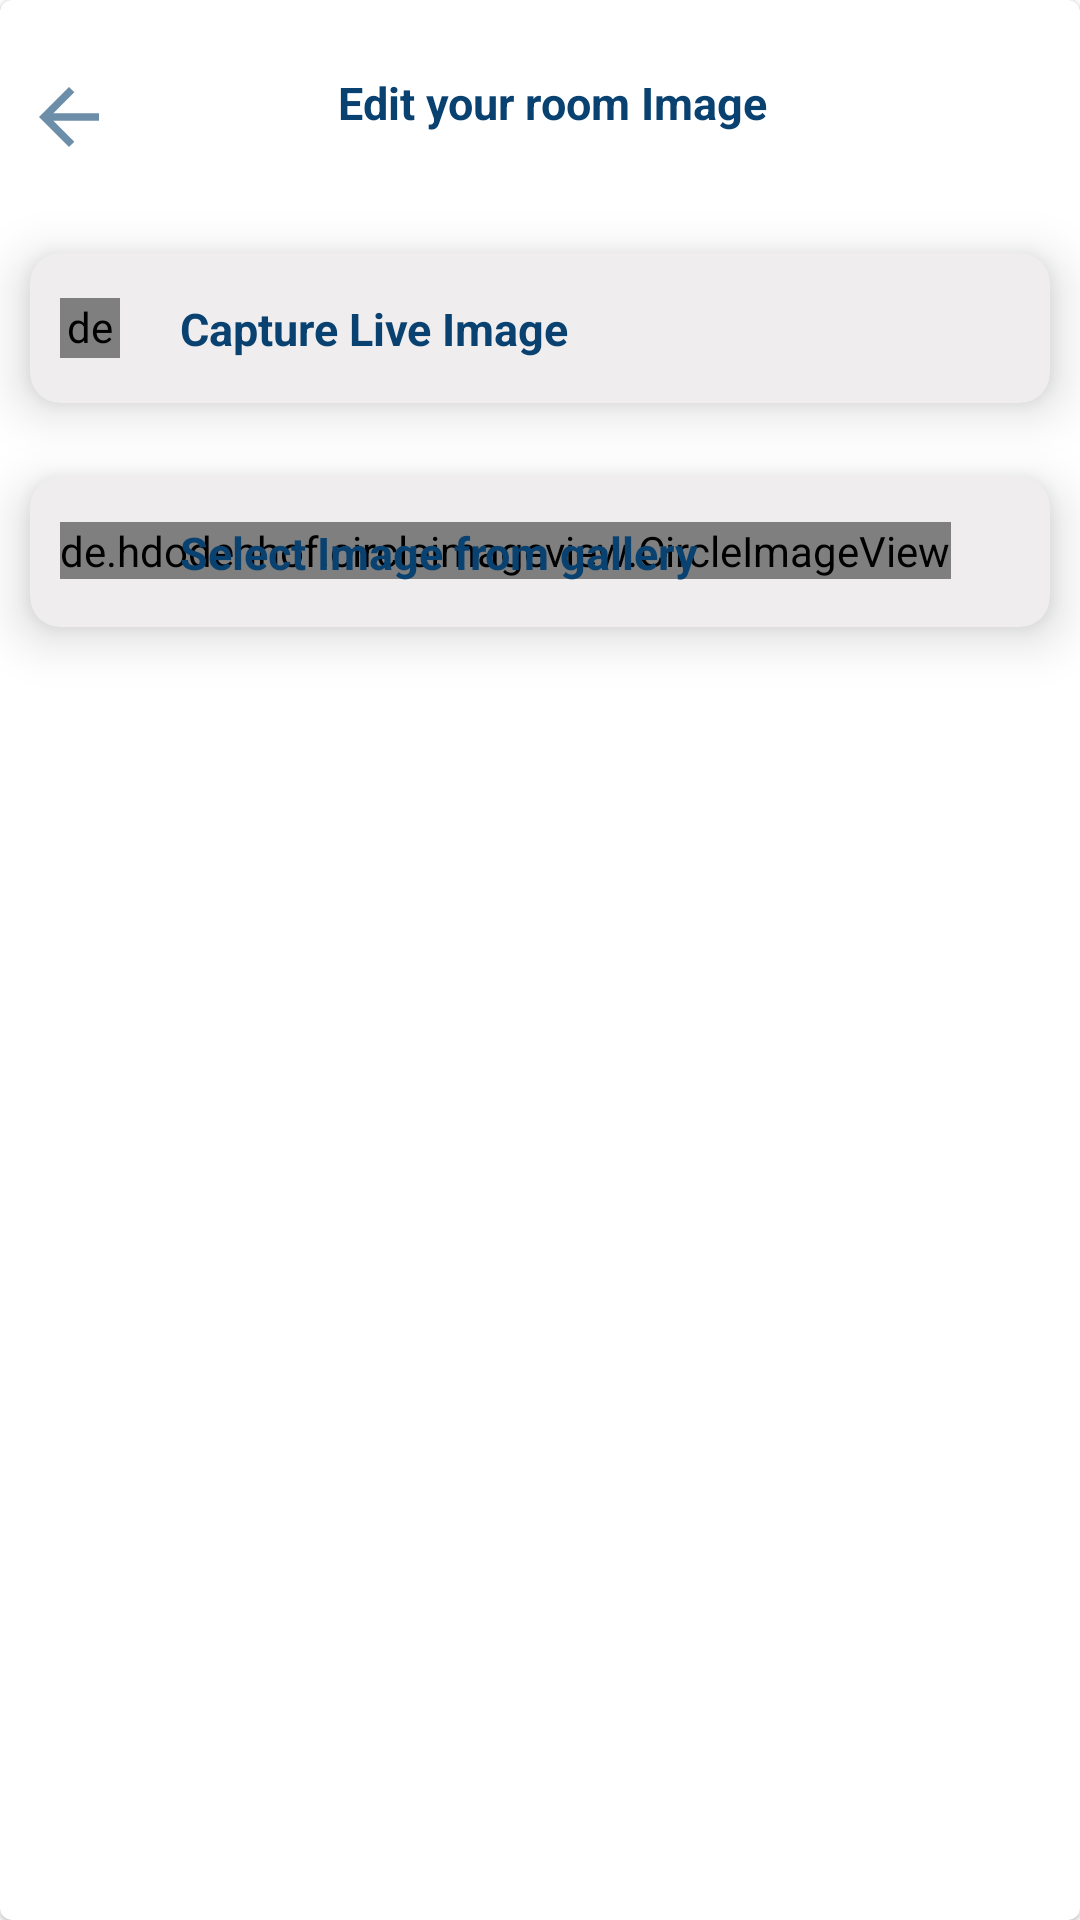

Where icons sit on this 1080 × 1920 app screen, as (x1=x1, y1=y1, x2=x2, y2=y2):
back: (x1=39, y1=87, x2=99, y2=147)
